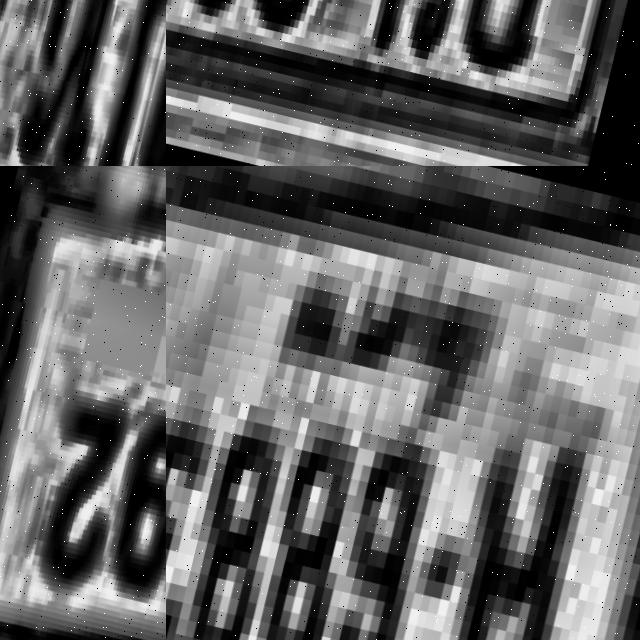license-plate: (166, 166, 640, 640), (166, 0, 640, 166), (0, 166, 166, 640), (0, 0, 166, 166)
